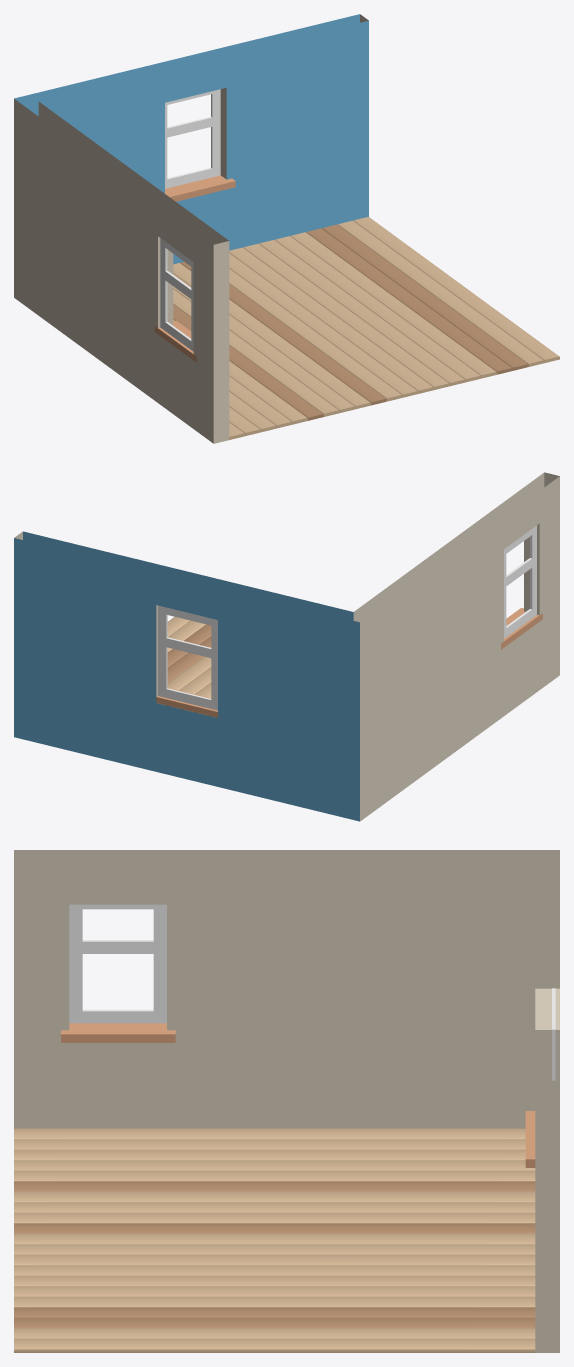
File: Room 01.fbx
3 renders of one model, top to bottom at view 1: azimuth 30°, elevation 25°; view 2: azimuth 150°, elevation 25°; view 3: azimuth 270°, elevation 25°, orthographic. The views are drawn at different scales.
Visible parts, largest first — view 1: Cube, Deck.002, Cube.036, Cube.017; view 2: Cube, Cube.036, Deck.002, Cube.017; view 3: Cube, Deck.002, Cube.017, Cube.036.
Part boxes in pixels (box(x1,y1,x2,y2)): Cube: box(14, 14, 368, 443); Deck.002: box(173, 217, 559, 439); Cube.036: box(165, 89, 235, 201); Cube.017: box(154, 238, 196, 362); Cube: box(14, 472, 559, 821); Cube.036: box(156, 605, 217, 717); Deck.002: box(167, 617, 211, 697); Cube.017: box(501, 525, 542, 649); Cube: box(14, 850, 559, 1352); Deck.002: box(14, 1128, 535, 1352); Cube.017: box(61, 904, 175, 1042); Cube.036: box(525, 988, 555, 1167).
Bounding box in the file's own units: 200 × 110 × 200.
